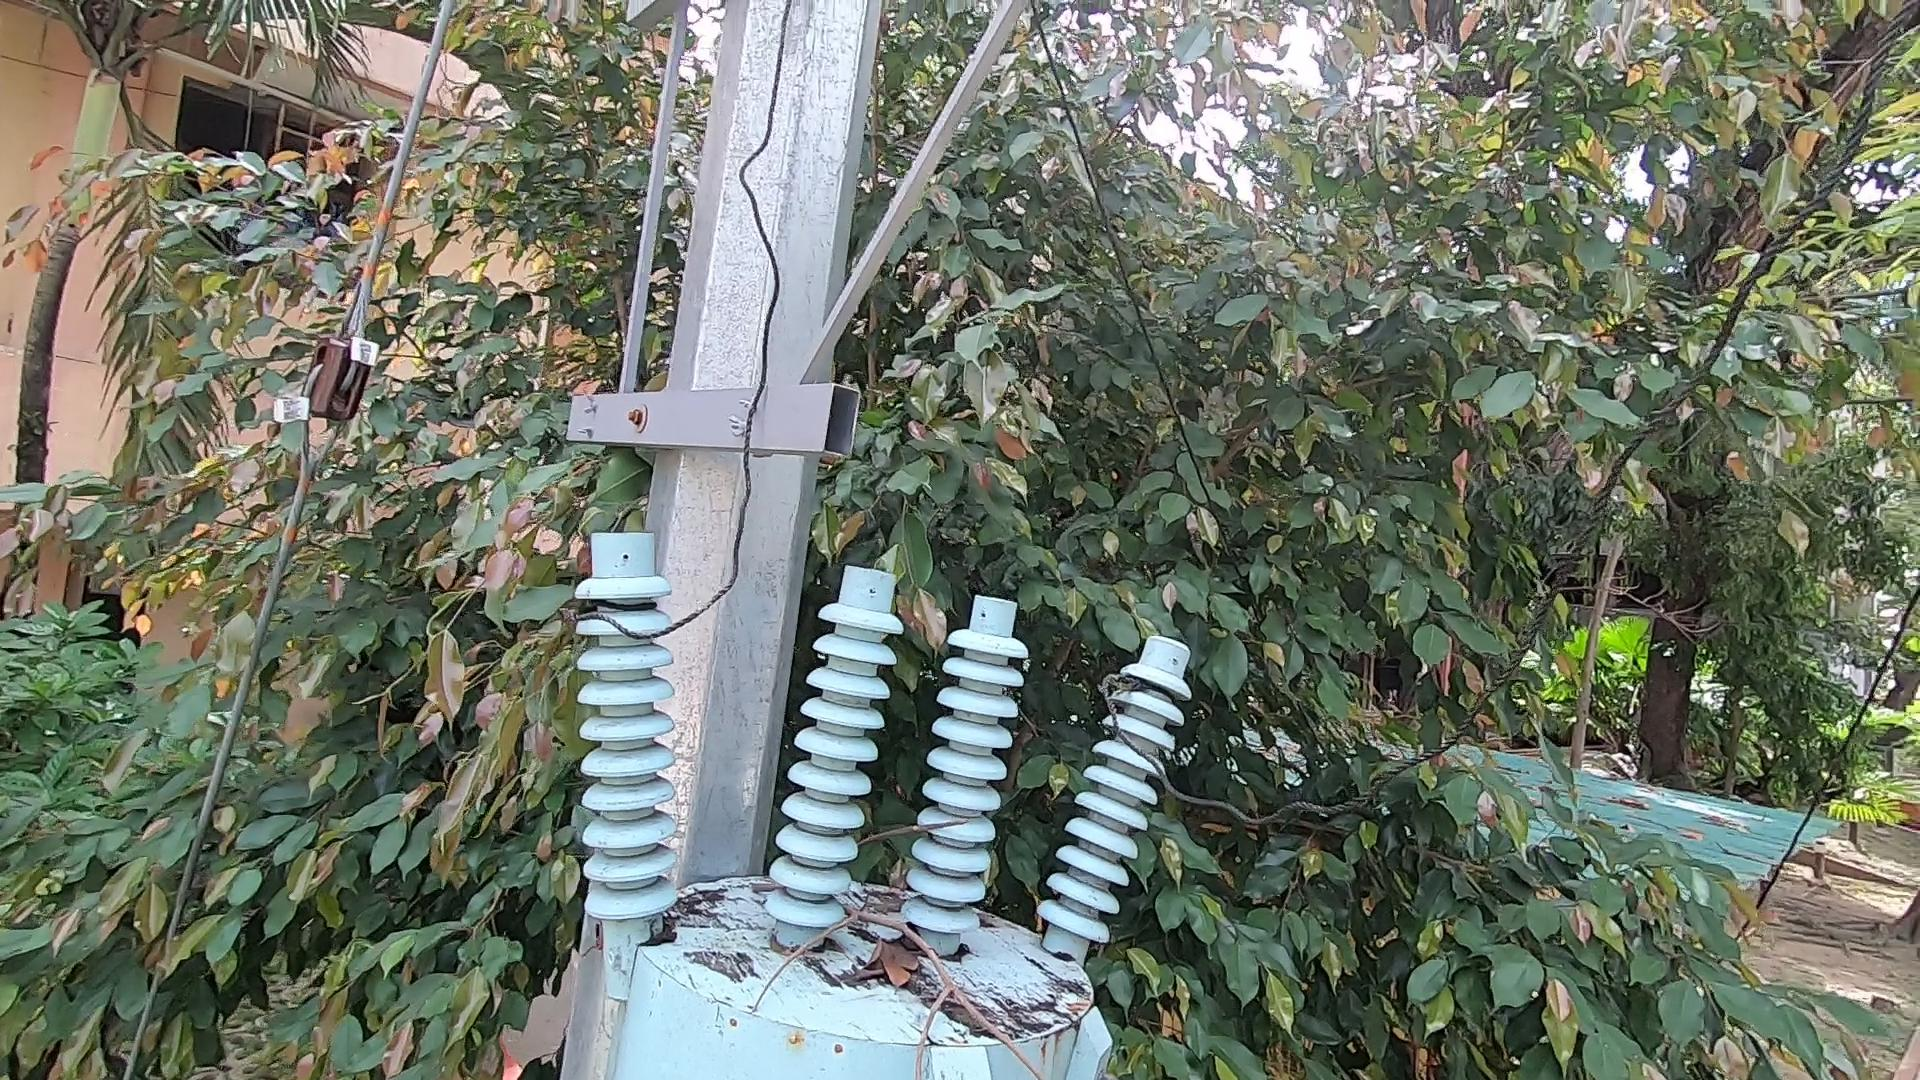leaf: (860, 914, 931, 994), (632, 909, 698, 960), (860, 876, 922, 910)
tree branch: (731, 864, 1051, 1080)
